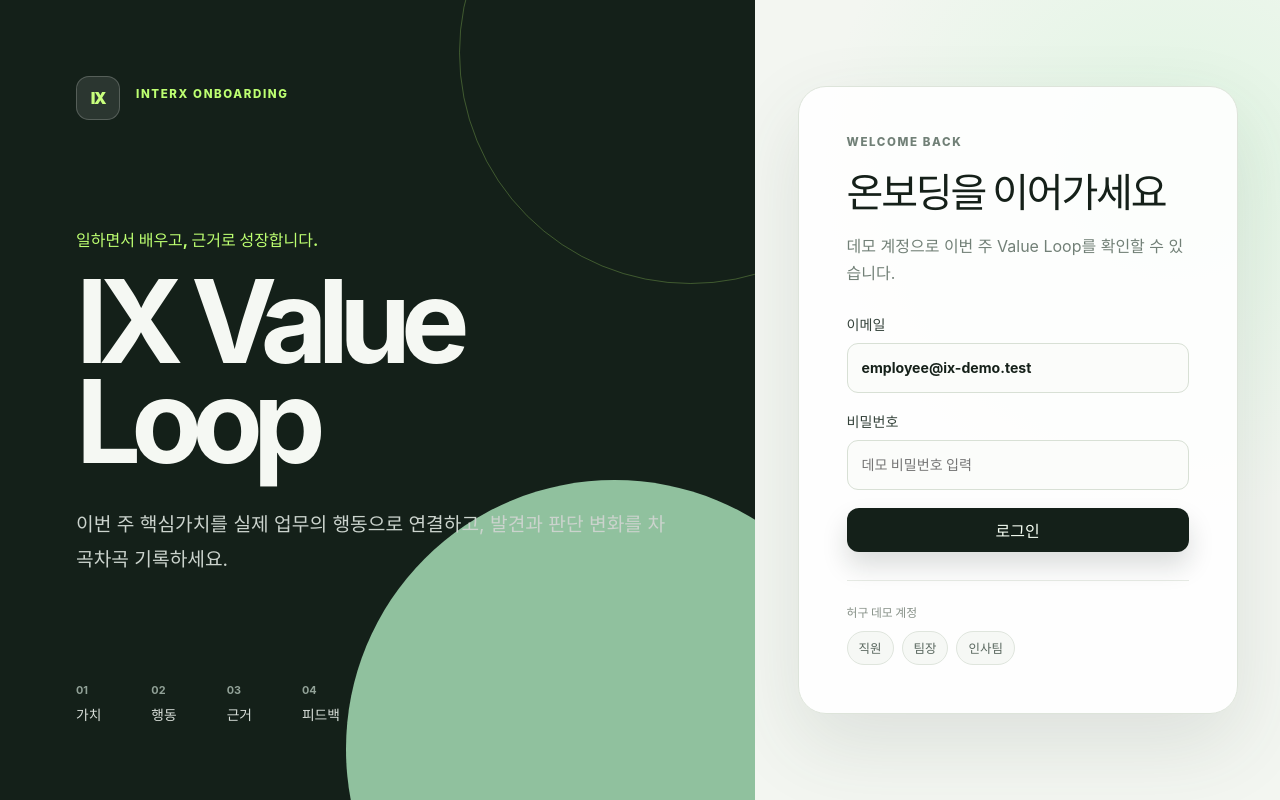
it: IX Value Loop employee flow › logs an employee in and follows the server-selected default path
Type "DemoPassword!" into the password field labelled "비밀번호" at x=1018, y=465, box [847,440,1189,490]
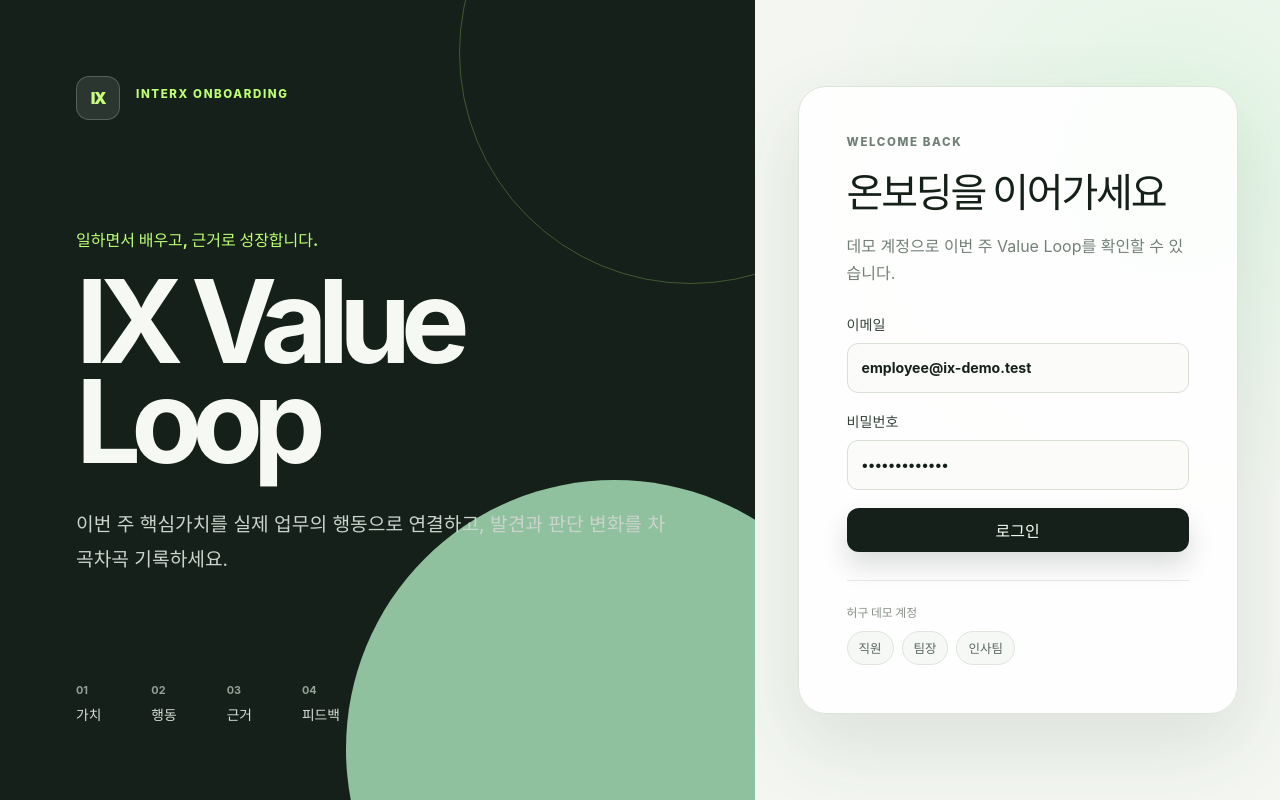
Click the button "로그인" at x=1018, y=530, box [847,508,1189,552]
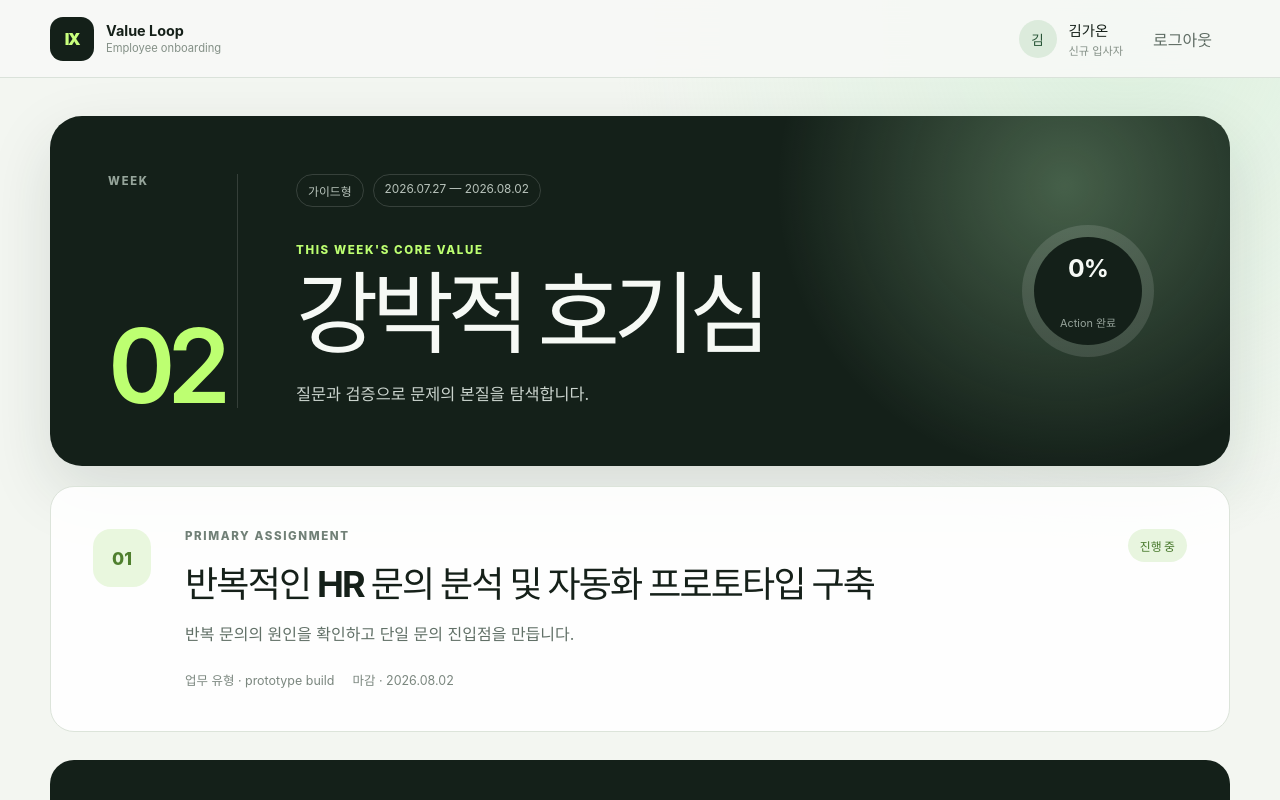
Check: the heading "강박적 호기심" is shown, box [296,259,765,368]
